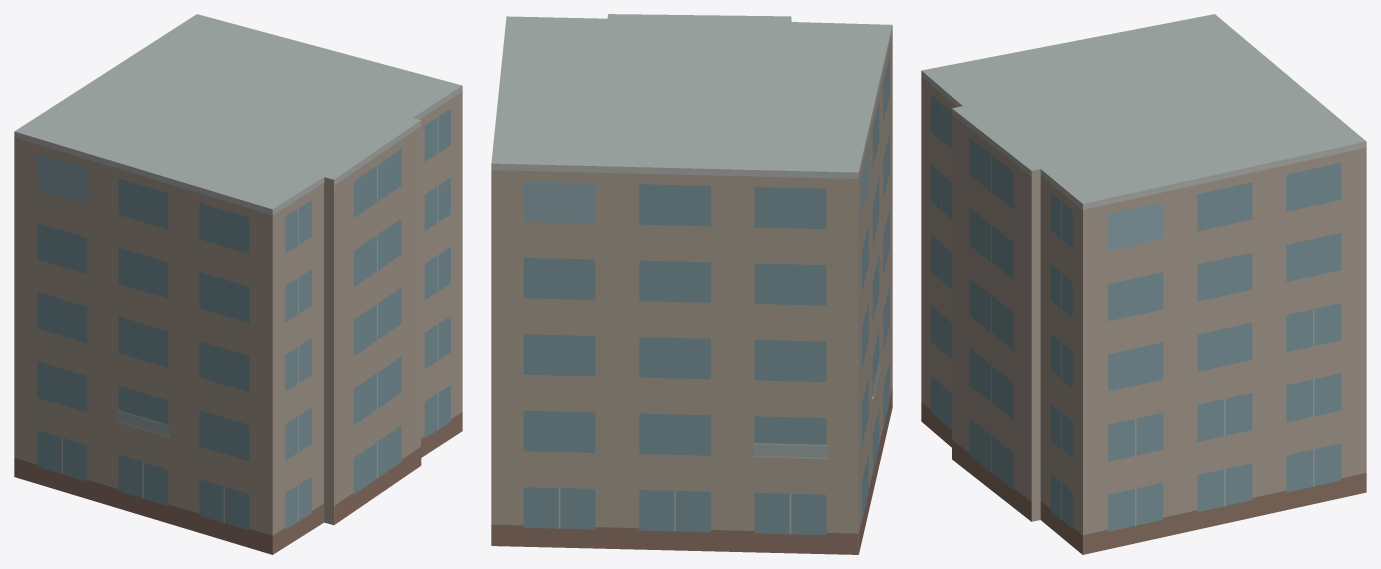
The model's file is survey-upis-32743398.glb.
3 renders of one model, left to right at view 1: azimuth 30°, elevation 25°; view 2: azimuth 150°, elevation 25°; view 3: azimuth 270°, elevation 25°, orthographic. The views are drawn at different scales.
Visible parts, largest first — view 1: survey-upis-32743398.tmp; view 2: survey-upis-32743398.tmp; view 3: survey-upis-32743398.tmp.
Part boxes in pixels (x1,y1,x2,y2): survey-upis-32743398.tmp: (14, 14, 462, 554); survey-upis-32743398.tmp: (491, 14, 892, 554); survey-upis-32743398.tmp: (921, 14, 1366, 554).
Size of the model in its own units: 16.55 by 14.25 by 16.39.
